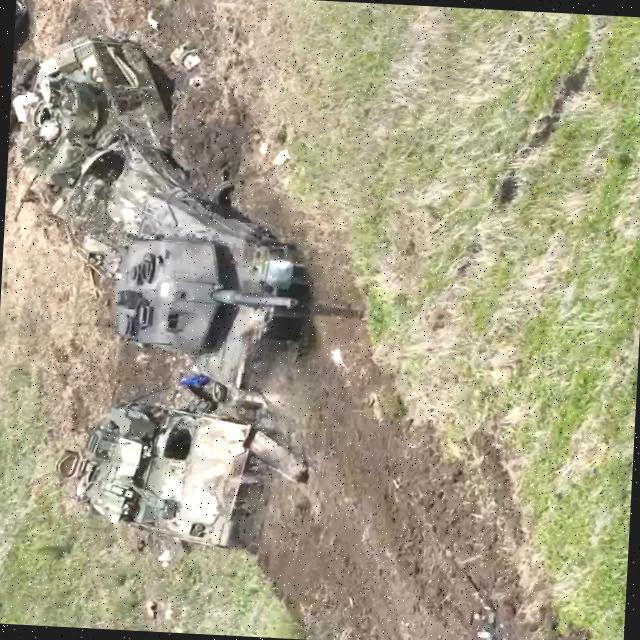AIFV: (7, 32, 185, 285), (54, 396, 264, 556)
MBT: (111, 190, 310, 398)
